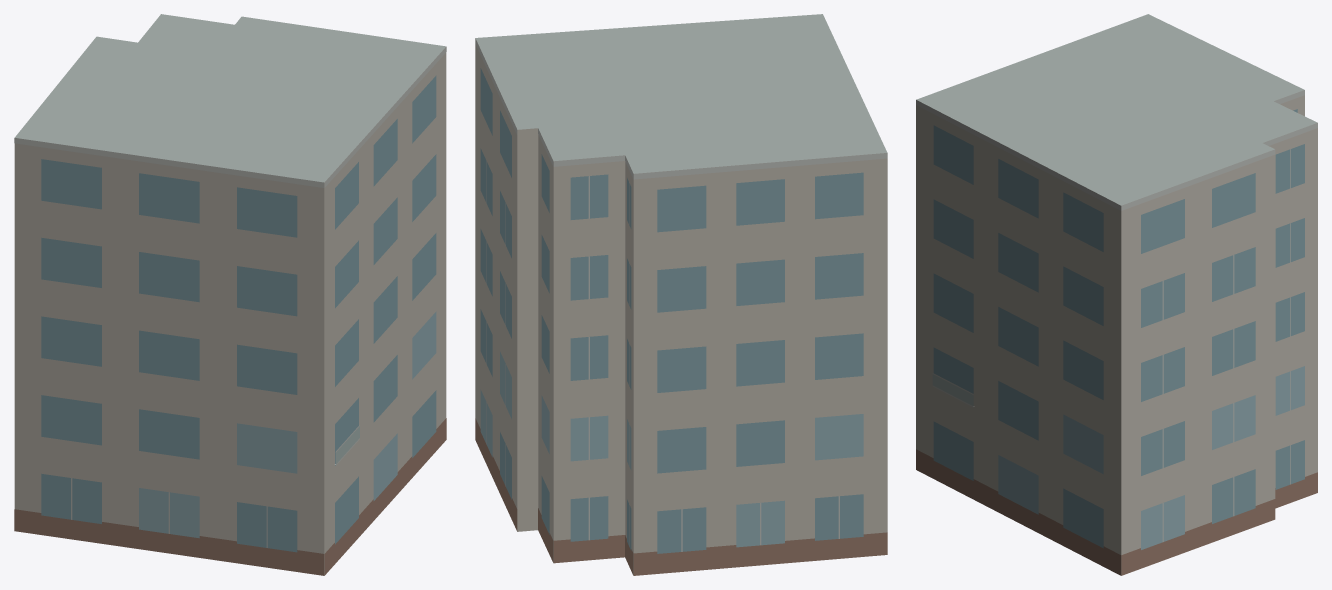
The model's file is survey-upis-32850440.glb.
The picture shows the model from 3 angles, left to right: view 1: azimuth 30°, elevation 25°; view 2: azimuth 150°, elevation 25°; view 3: azimuth 270°, elevation 25°; orthographic projection. The views are drawn at different scales.
Parts seen in each view (by area): view 1: survey-upis-32850440.tmp; view 2: survey-upis-32850440.tmp; view 3: survey-upis-32850440.tmp.
Boxes of the visible parts, box(x1,y1,x2,y2) form: survey-upis-32850440.tmp: box(14, 14, 446, 575); survey-upis-32850440.tmp: box(475, 14, 887, 575); survey-upis-32850440.tmp: box(916, 14, 1317, 575).
Bounding box in the file's own units: 19.12 × 17.2 × 16.93.
